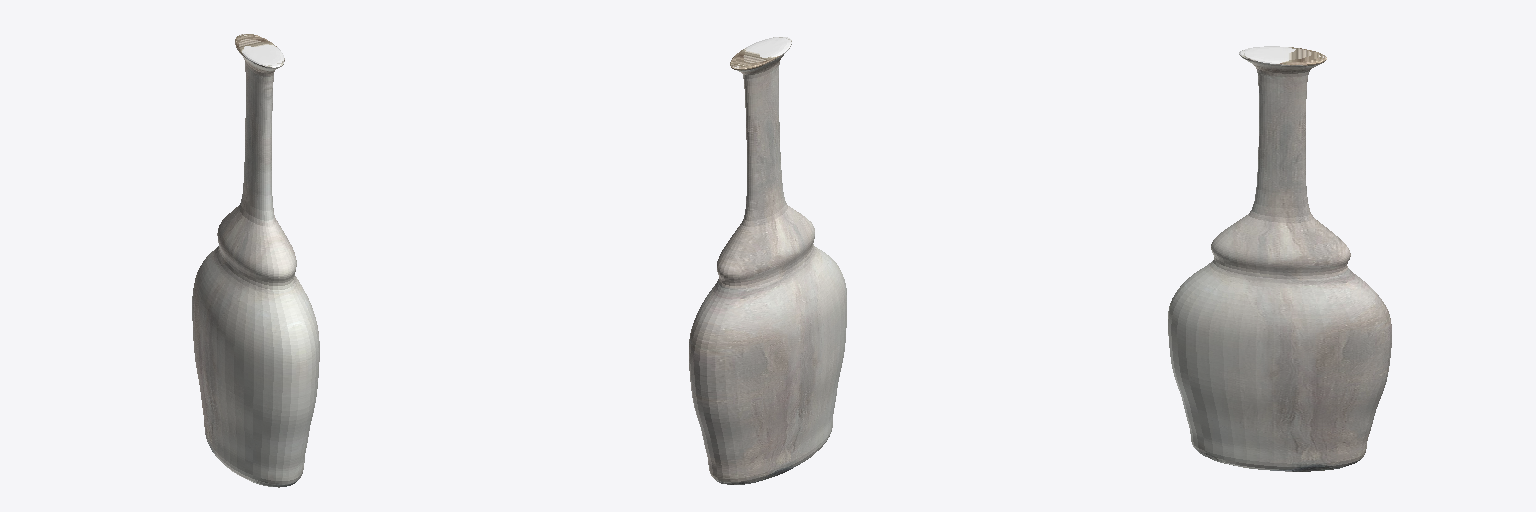
3 views of the same model, side by side, from view 1: azimuth 30°, elevation 25°; view 2: azimuth 150°, elevation 25°; view 3: azimuth 270°, elevation 25° (orthographic).
Visible parts, largest first — view 1: 000_Cylinder_-_baked; view 2: 000_Cylinder_-_baked; view 3: 000_Cylinder_-_baked.
Part boxes in pixels (bbox=[...]): 000_Cylinder_-_baked: bbox=[192, 34, 319, 487]; 000_Cylinder_-_baked: bbox=[689, 37, 846, 484]; 000_Cylinder_-_baked: bbox=[1168, 46, 1391, 471].
Bounding box in the file's own units: 55.98 × 243 × 120.
1 materials, 1 textured.